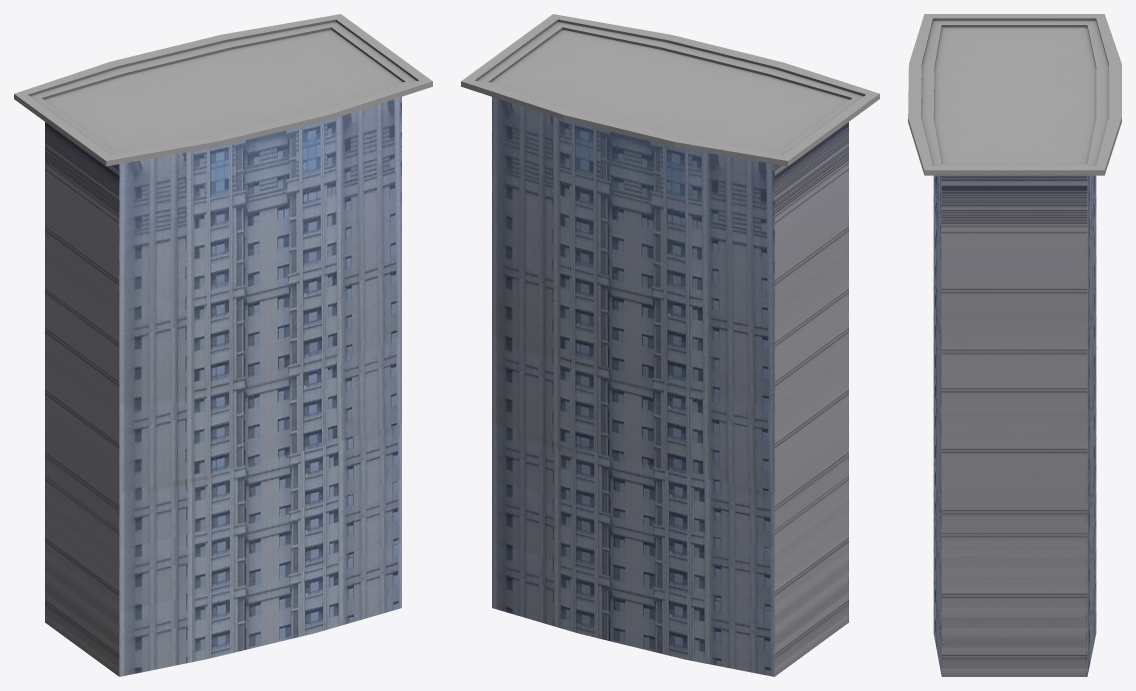
The model's file is BLD-Type-5.FBX.
3 renders of one model, left to right at view 1: azimuth 30°, elevation 25°; view 2: azimuth 150°, elevation 25°; view 3: azimuth 270°, elevation 25°, orthographic. The views are drawn at different scales.
Visible parts, largest first — view 1: BLD-Type-005; view 2: BLD-Type-005; view 3: BLD-Type-005.
Part boxes in pixels (bbox=[...]): BLD-Type-005: bbox=[14, 14, 432, 676]; BLD-Type-005: bbox=[461, 14, 879, 676]; BLD-Type-005: bbox=[908, 14, 1121, 676].
Size of the model in its own units: 35.62 by 54.95 by 20.58.
